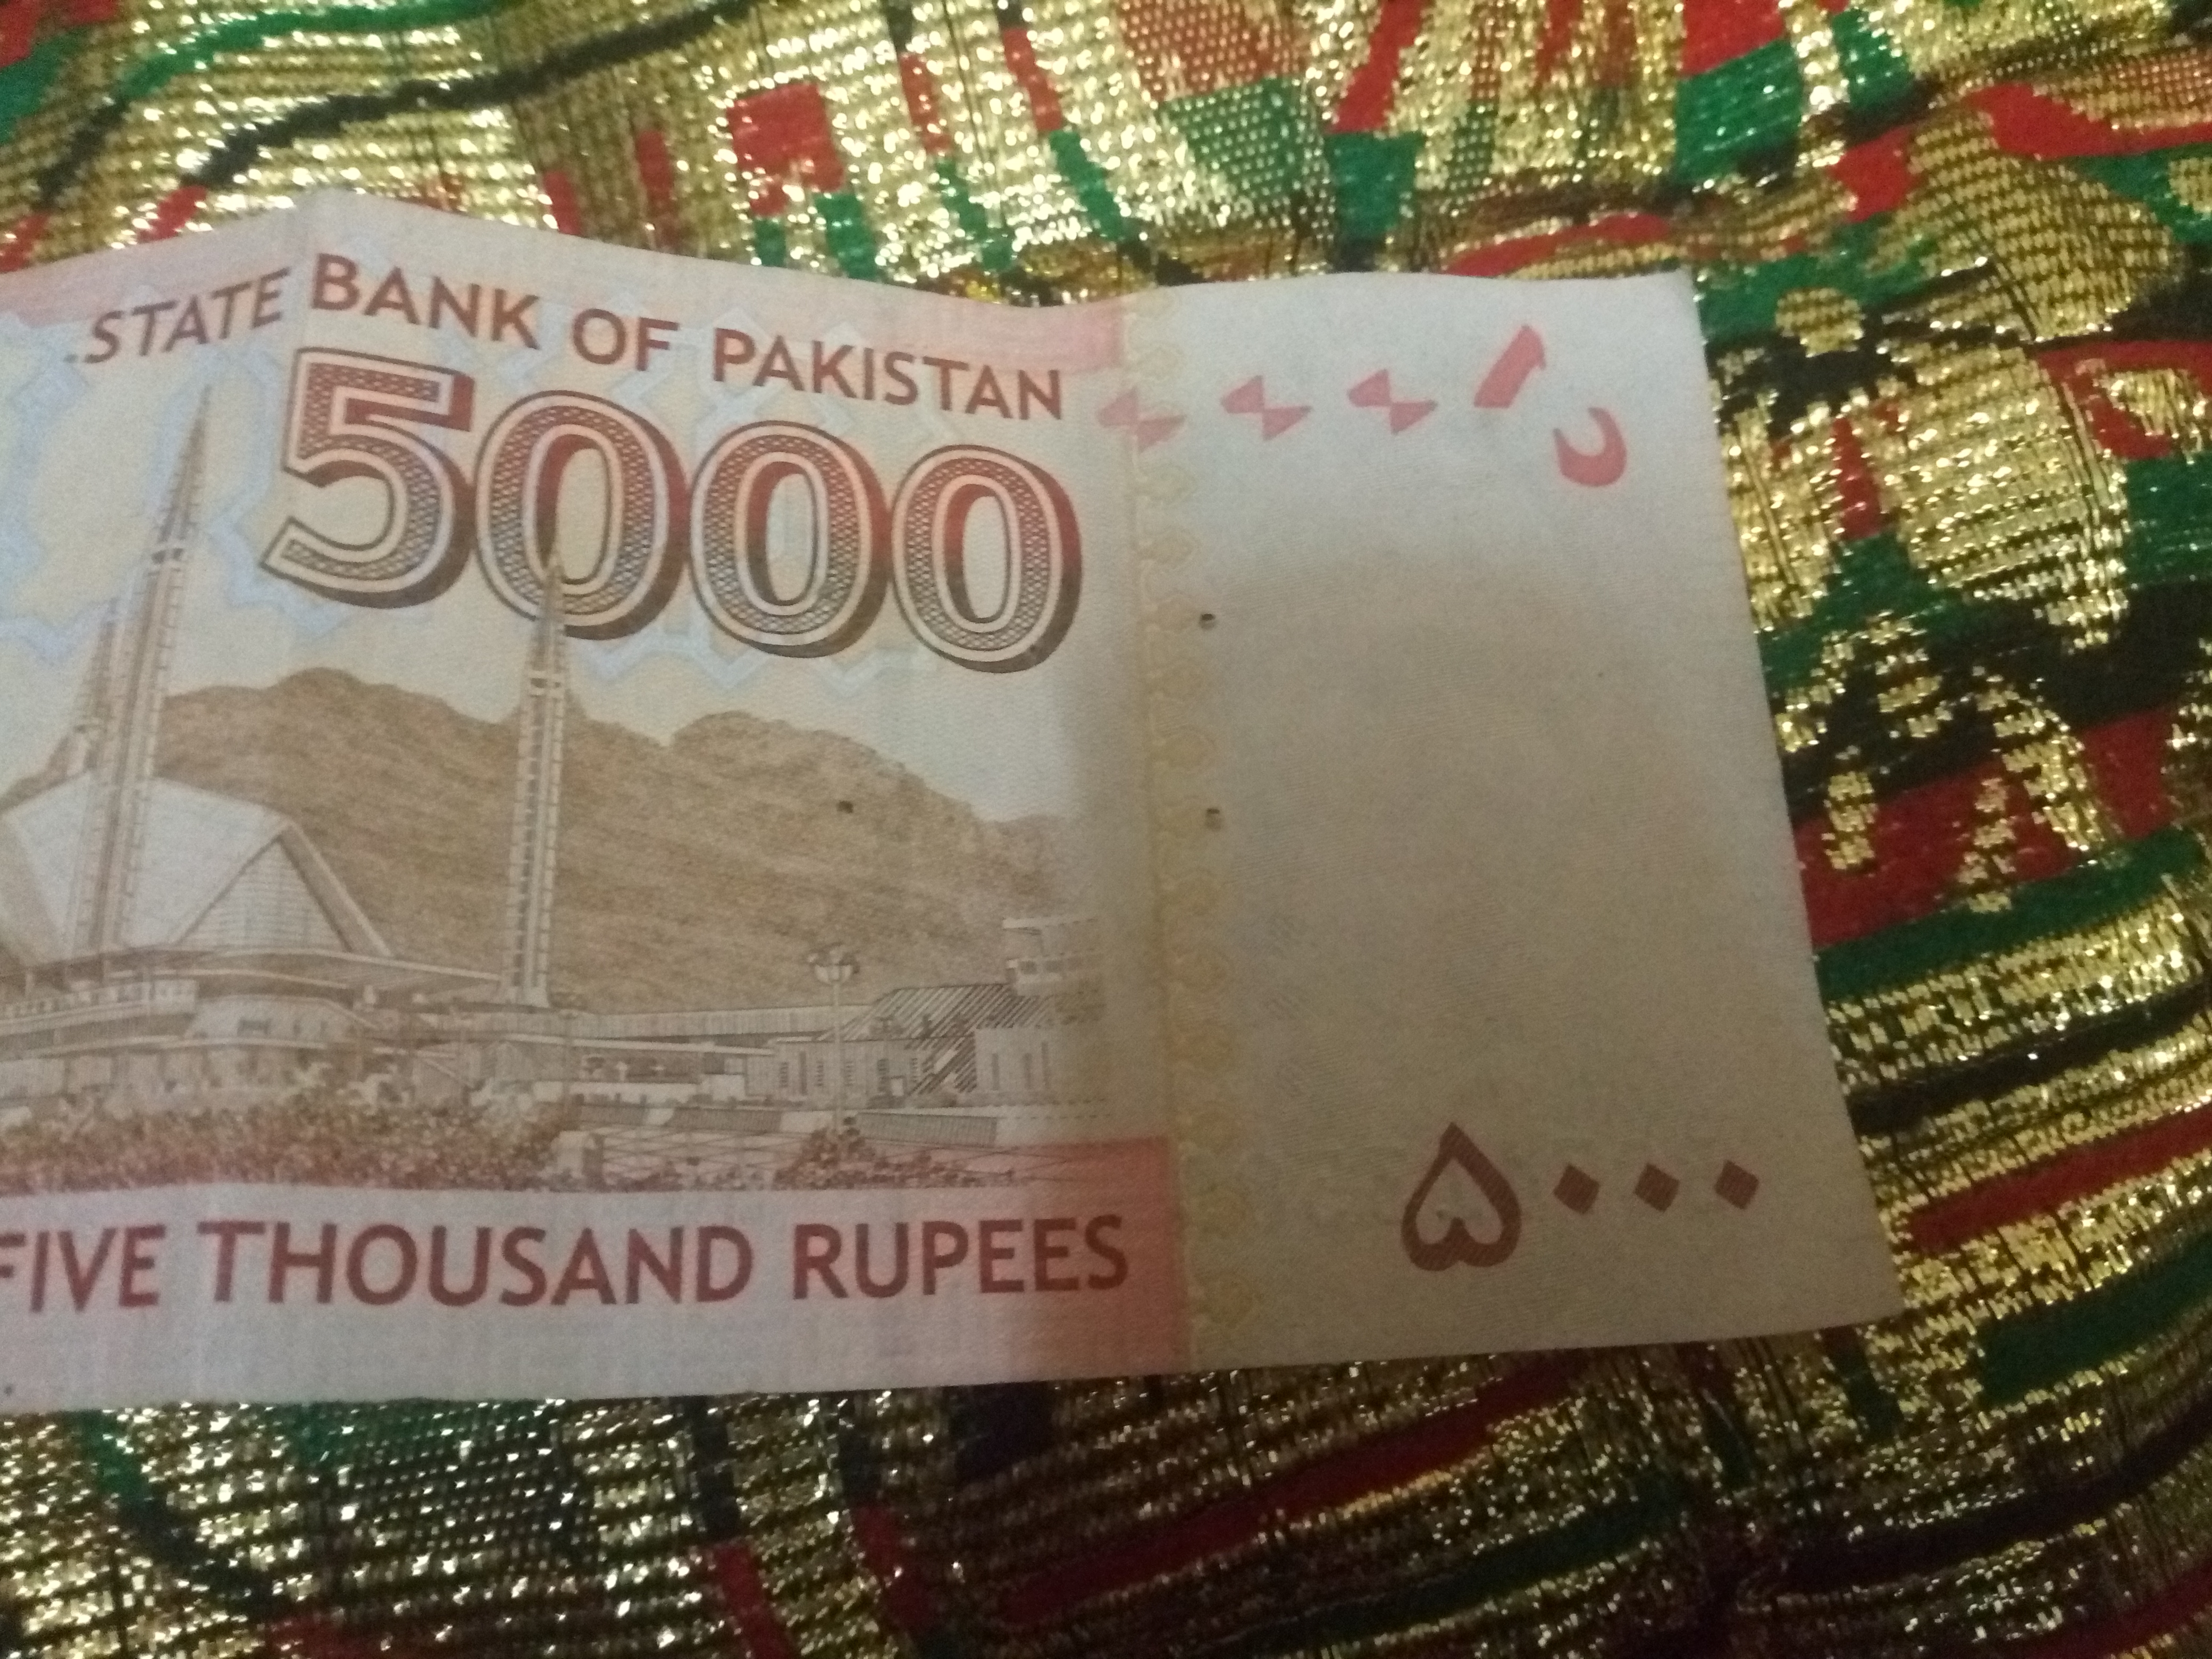5000 rupee: (85, 131, 1865, 1432)
